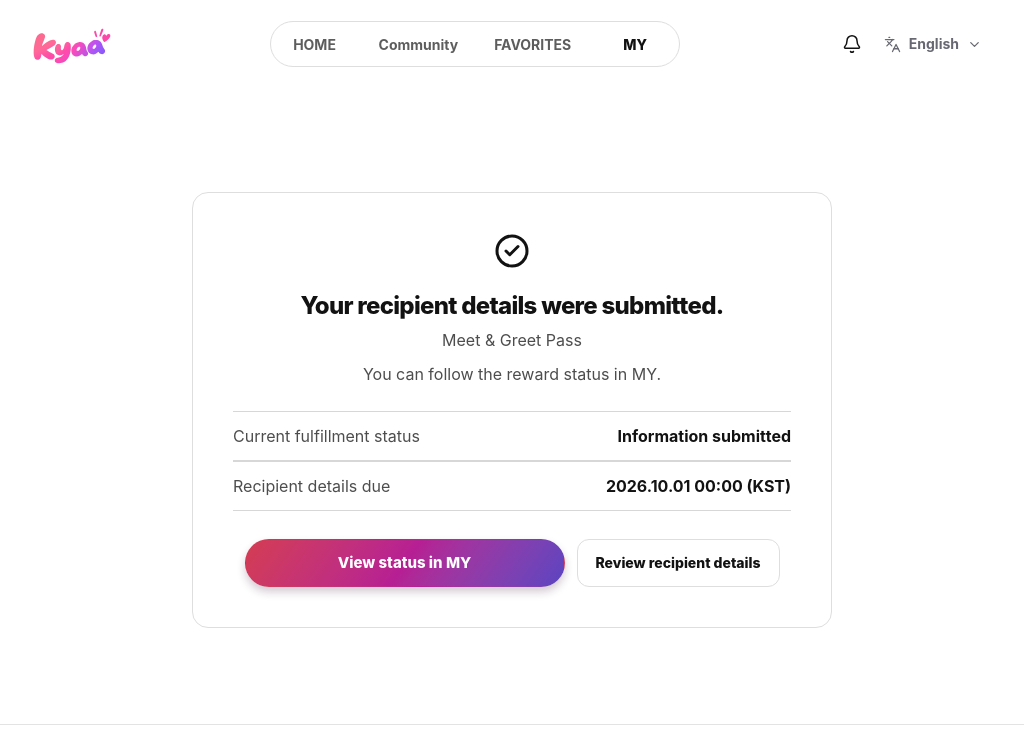
Test: Benefit recipient screen › reconciles an explicit edit after saved
The width and height of the screenshot is (1024, 746).
Step 1. Click the button "Review recipient details" → {"x": 678, "y": 563}, box left=576, top=539, right=780, bottom=587
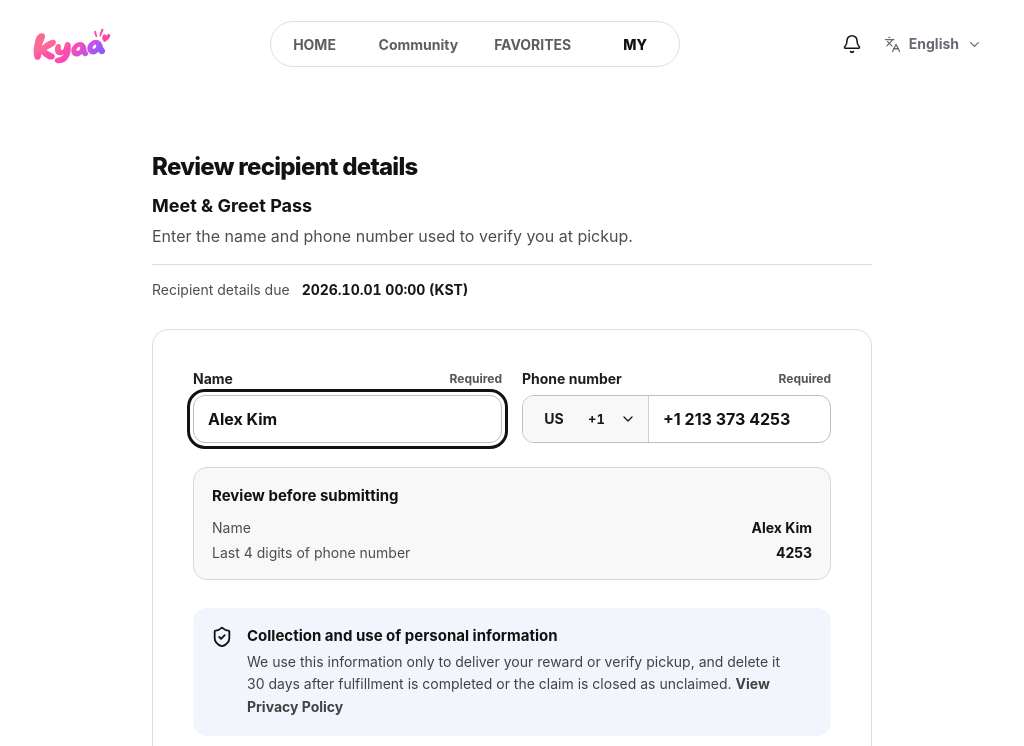
Step 2. Replace the text in the field labelled "Name Required" with "Alex Lee" → {"x": 348, "y": 419}, box left=193, top=395, right=502, bottom=443
(page scrolled)
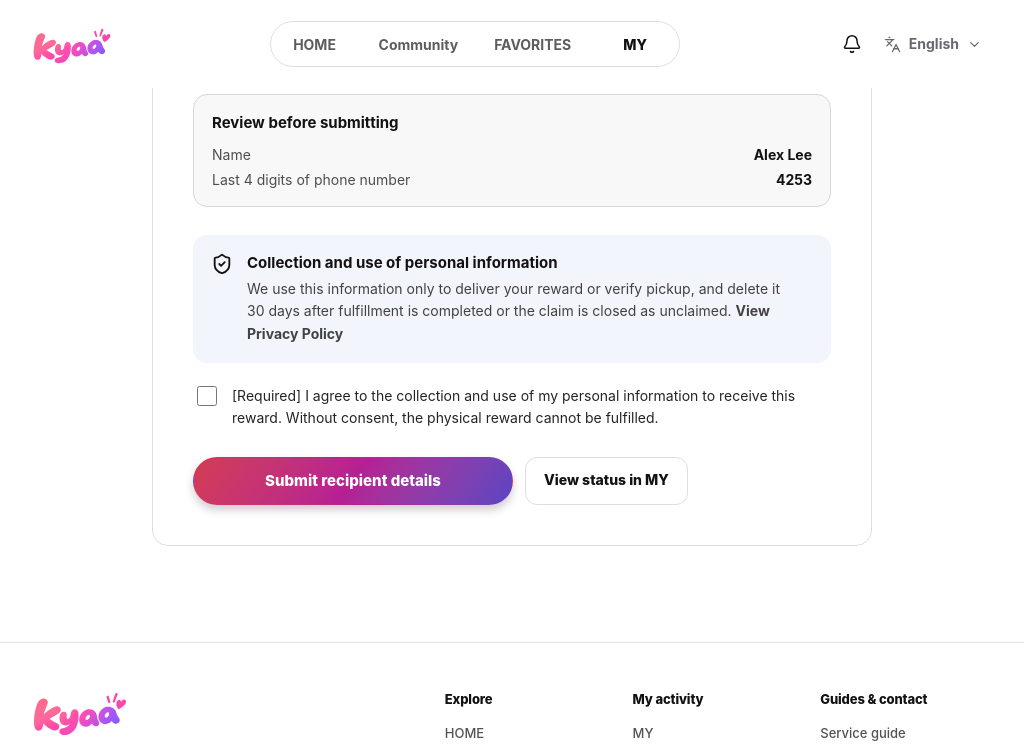
Step 3. Click the checkbox → {"x": 207, "y": 396}, box left=197, top=386, right=217, bottom=406
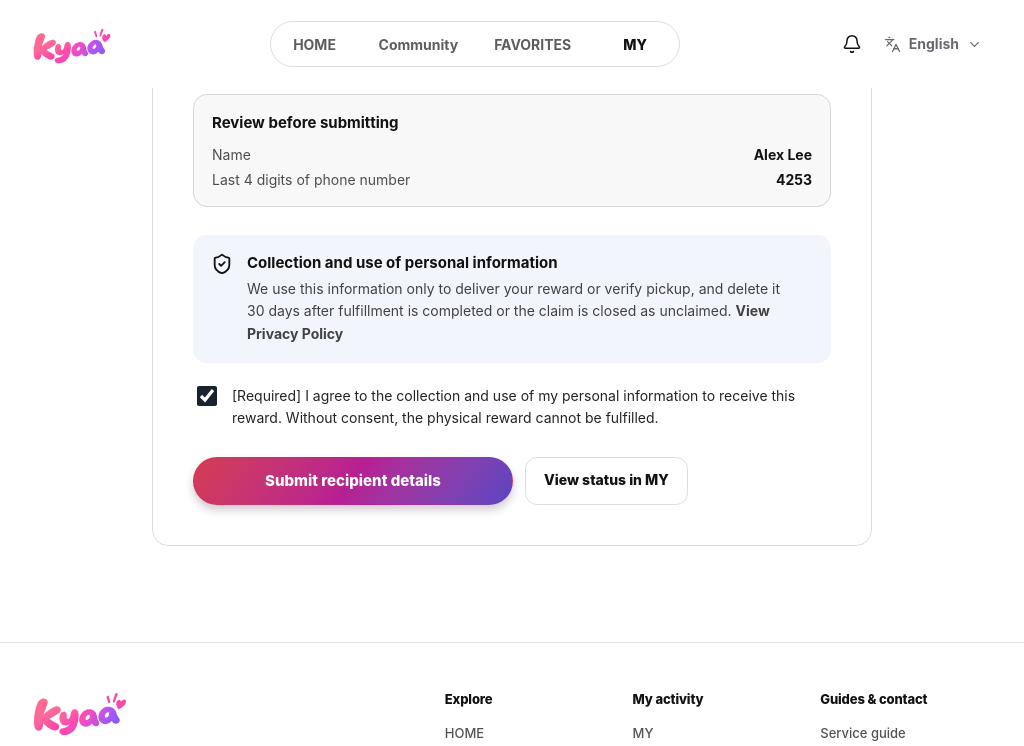
Step 4. Click the button "Submit recipient details" → {"x": 353, "y": 480}, box left=193, top=456, right=513, bottom=504
(page scrolled)
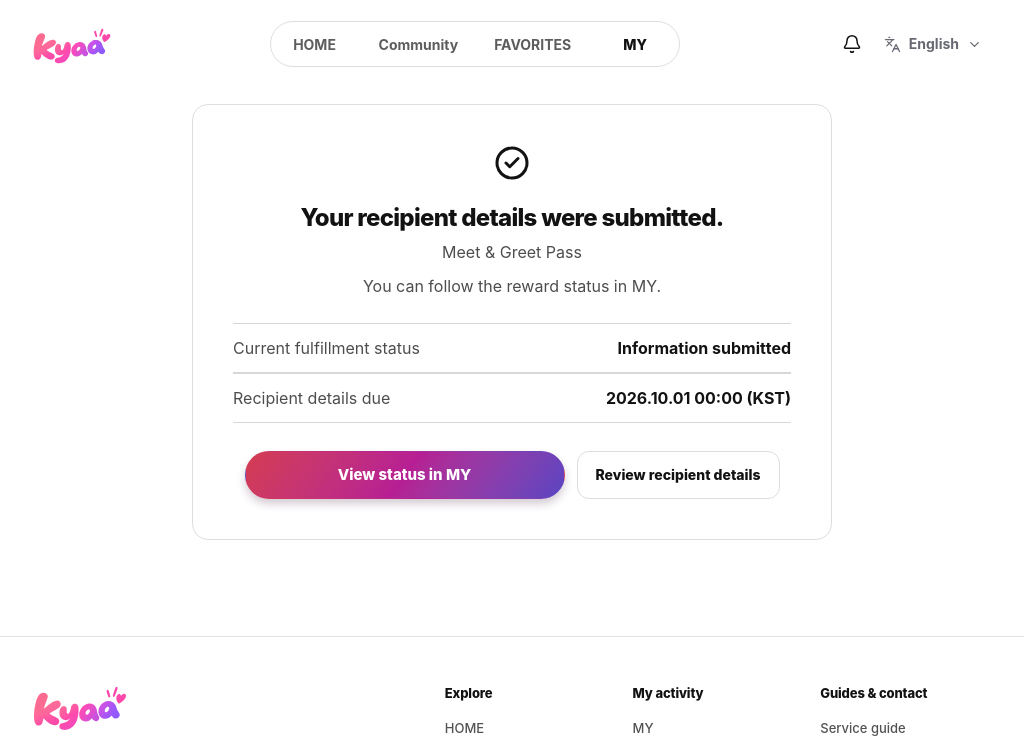
Check: the heading "Your recipient details were submitted." is shown, box left=300, top=203, right=724, bottom=232
